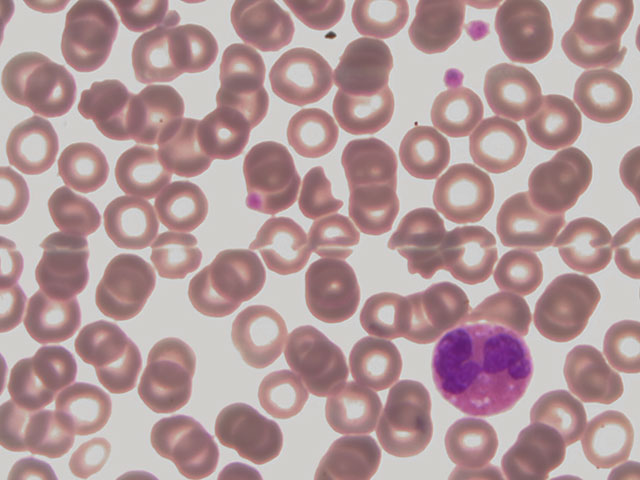Platelets: (461, 16, 493, 45), (441, 67, 468, 91)
RBC: (470, 115, 525, 175), (439, 165, 494, 225), (393, 124, 448, 184), (431, 84, 486, 144), (339, 128, 394, 188), (343, 184, 398, 244), (306, 209, 361, 269), (301, 259, 356, 319), (350, 286, 405, 346), (390, 288, 445, 348), (419, 276, 474, 336), (476, 281, 531, 341), (503, 243, 558, 303), (499, 192, 554, 252), (526, 160, 581, 220), (531, 96, 586, 156), (487, 61, 542, 121), (577, 68, 632, 128), (564, 11, 619, 71), (497, 4, 552, 64), (335, 35, 390, 95), (337, 79, 392, 139), (274, 46, 329, 106), (280, 101, 335, 161), (238, 149, 293, 209), (196, 108, 251, 168), (217, 77, 272, 137), (214, 40, 269, 100), (169, 19, 224, 79), (122, 19, 177, 79), (127, 83, 182, 143), (150, 118, 205, 178), (117, 141, 172, 201), (96, 190, 151, 250), (154, 177, 209, 237), (152, 226, 207, 286), (187, 272, 242, 332), (211, 241, 266, 301), (259, 213, 314, 273), (297, 159, 352, 219), (290, 321, 345, 381), (230, 300, 285, 360), (254, 363, 309, 423), (324, 373, 379, 433), (350, 335, 405, 395), (383, 373, 438, 433), (443, 410, 498, 470), (506, 420, 561, 480), (529, 386, 584, 446), (562, 346, 617, 406), (539, 279, 594, 339), (560, 211, 615, 271), (582, 407, 637, 467), (225, 398, 280, 458), (163, 415, 218, 475), (138, 361, 193, 421), (144, 330, 199, 390), (92, 335, 147, 395), (79, 320, 134, 380), (90, 268, 145, 328), (20, 287, 75, 347), (33, 241, 88, 301), (41, 190, 96, 250), (52, 139, 107, 199), (2, 113, 57, 173), (28, 63, 83, 123), (60, 13, 115, 73), (85, 74, 140, 134), (56, 380, 111, 440), (23, 405, 78, 465), (6, 356, 61, 416), (39, 333, 94, 393), (413, 1, 468, 60), (229, 1, 284, 60), (598, 312, 640, 375), (351, 1, 405, 40)
WBC: (437, 322, 530, 416)
